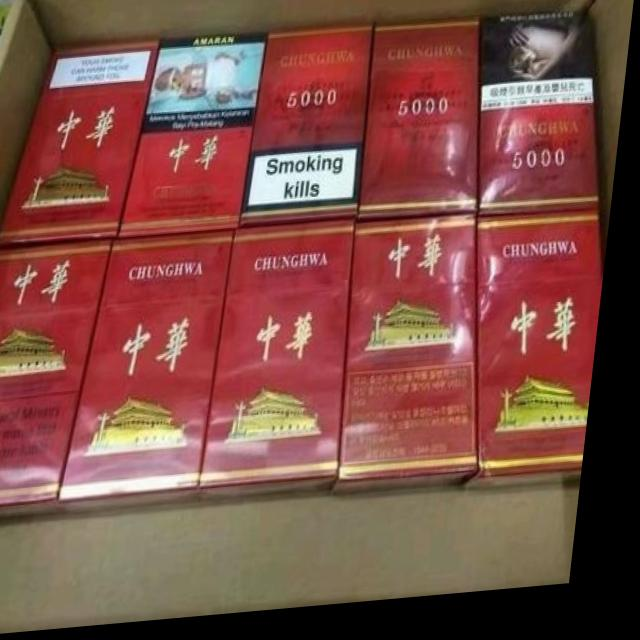box: (69, 234, 240, 519), (209, 228, 360, 506), (344, 222, 491, 500), (476, 221, 610, 498), (1, 41, 162, 249), (0, 243, 119, 523), (123, 37, 268, 241), (246, 30, 375, 232), (482, 23, 605, 224), (363, 27, 484, 226)
